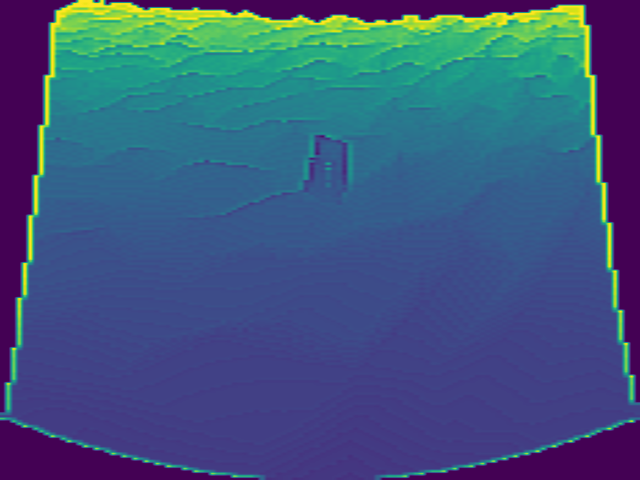car_0198: (304, 132, 349, 198)
